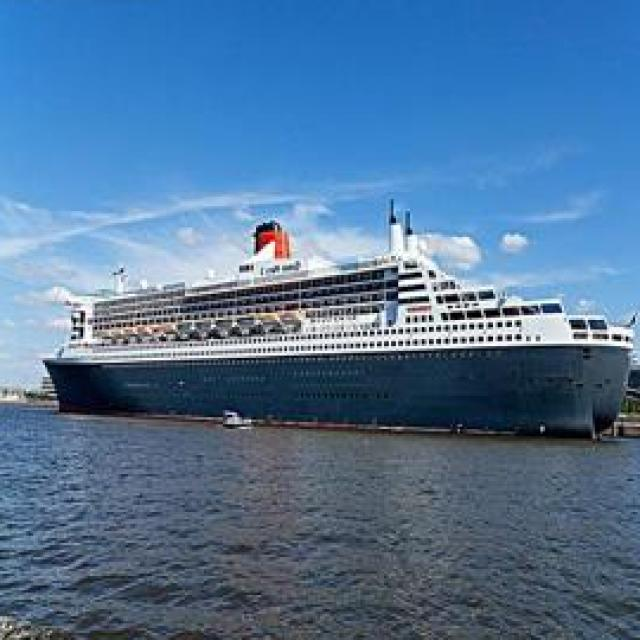passenger ship: (46, 199, 634, 429)
